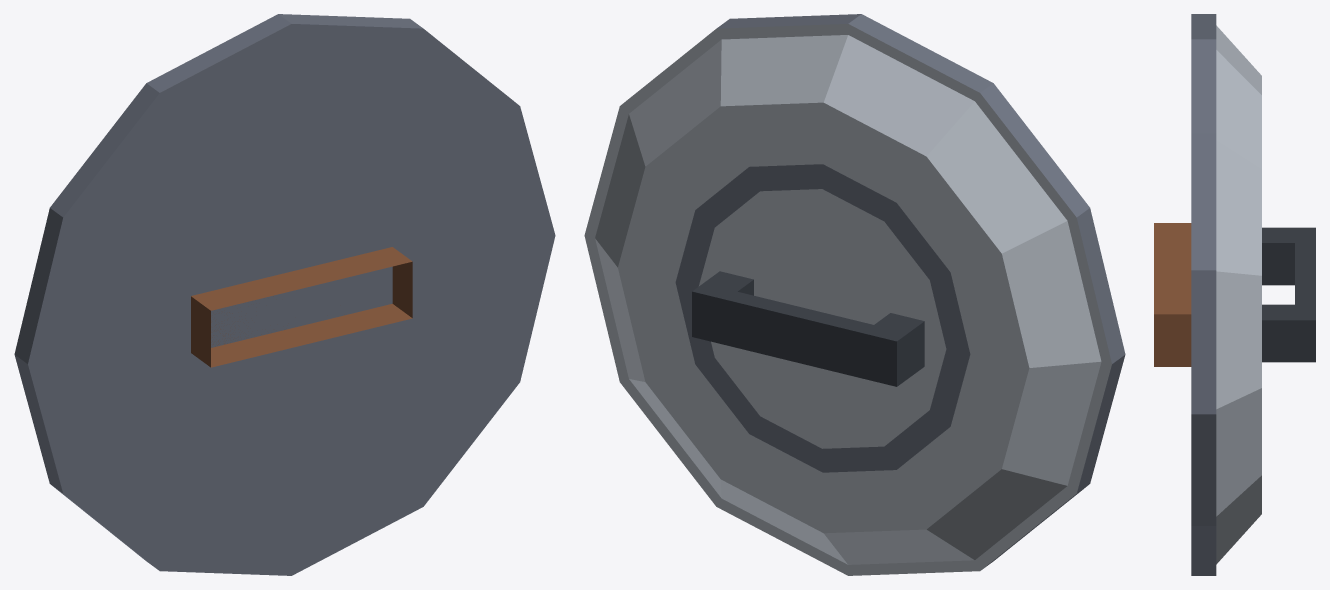
The model's file is FX_Shield1_TrashLid.fbx.
3 views of the same model, side by side, from view 1: azimuth 30°, elevation 25°; view 2: azimuth 150°, elevation 25°; view 3: azimuth 270°, elevation 25° (orthographic). The views are drawn at different scales.
Parts seen in each view (by area): view 1: FX_Shield1_TrashLid; view 2: FX_Shield1_TrashLid; view 3: FX_Shield1_TrashLid.
Part boxes in pixels (x1,y1,x2,y2): FX_Shield1_TrashLid: (14,14,555,575); FX_Shield1_TrashLid: (584,14,1125,575); FX_Shield1_TrashLid: (1154,14,1315,575).
Bounding box in the file's own units: 0.68 × 0.68 × 0.195.
